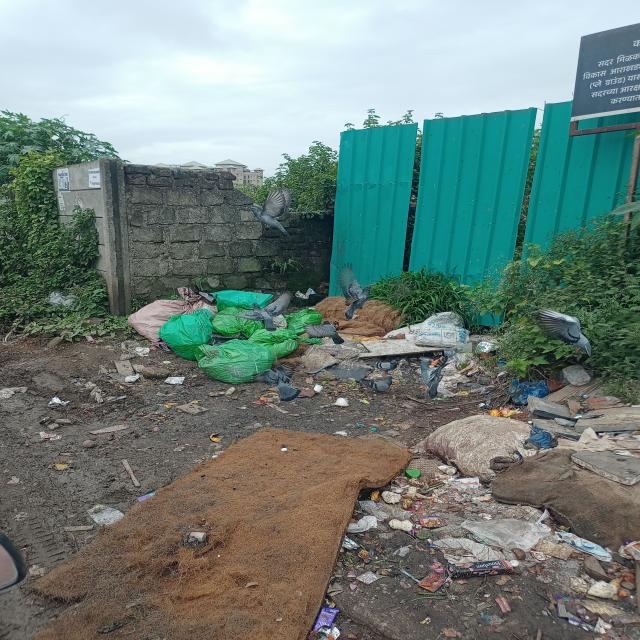garbage: (348, 363, 640, 583), (137, 288, 500, 407)
